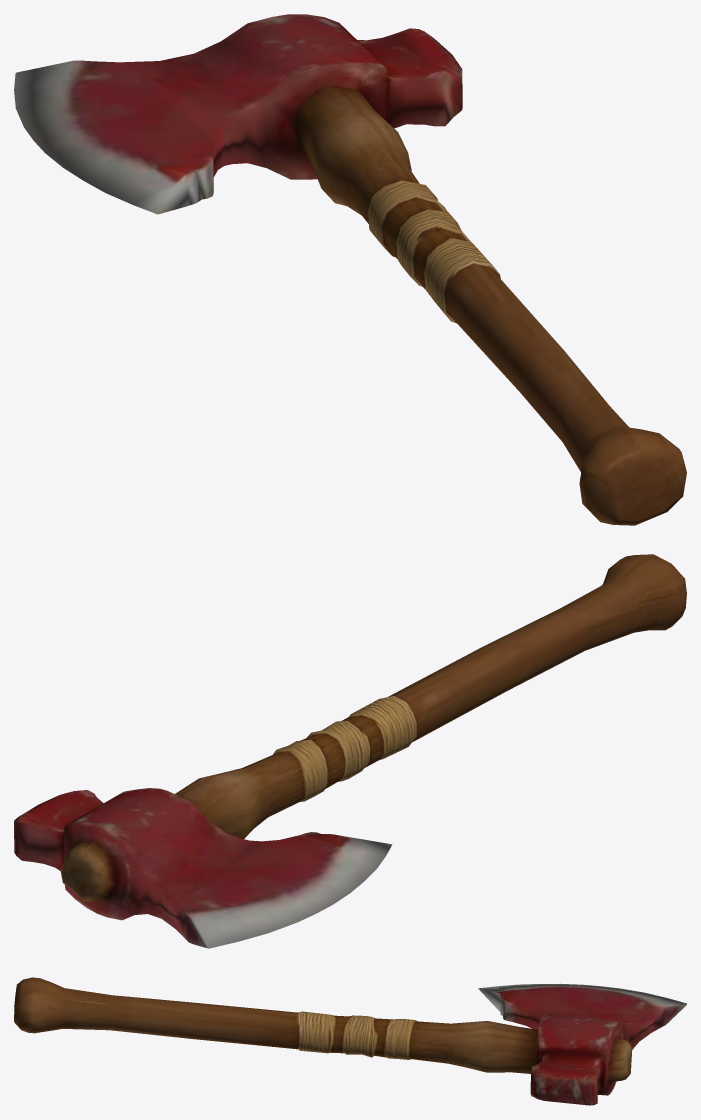
Rendered from m_war_axe2.fbx.
3 renders of one model, top to bottom at view 1: azimuth 30°, elevation 25°; view 2: azimuth 150°, elevation 25°; view 3: azimuth 270°, elevation 25°, orthographic. The views are drawn at different scales.
Parts seen in each view (by area): view 1: tripo_node_46764ec2-fc93-48b6-bfd5-91f7acda0c8a; view 2: tripo_node_46764ec2-fc93-48b6-bfd5-91f7acda0c8a; view 3: tripo_node_46764ec2-fc93-48b6-bfd5-91f7acda0c8a.
Boxes of the visible parts, x1,y1,x2,y2 form: tripo_node_46764ec2-fc93-48b6-bfd5-91f7acda0c8a: (14,14,686,525); tripo_node_46764ec2-fc93-48b6-bfd5-91f7acda0c8a: (14,554,686,948); tripo_node_46764ec2-fc93-48b6-bfd5-91f7acda0c8a: (14,977,686,1105).
Size of the model in its own units: 0.5903 by 0.1623 by 1.56.
Materials: 1 (1 with a texture image).
